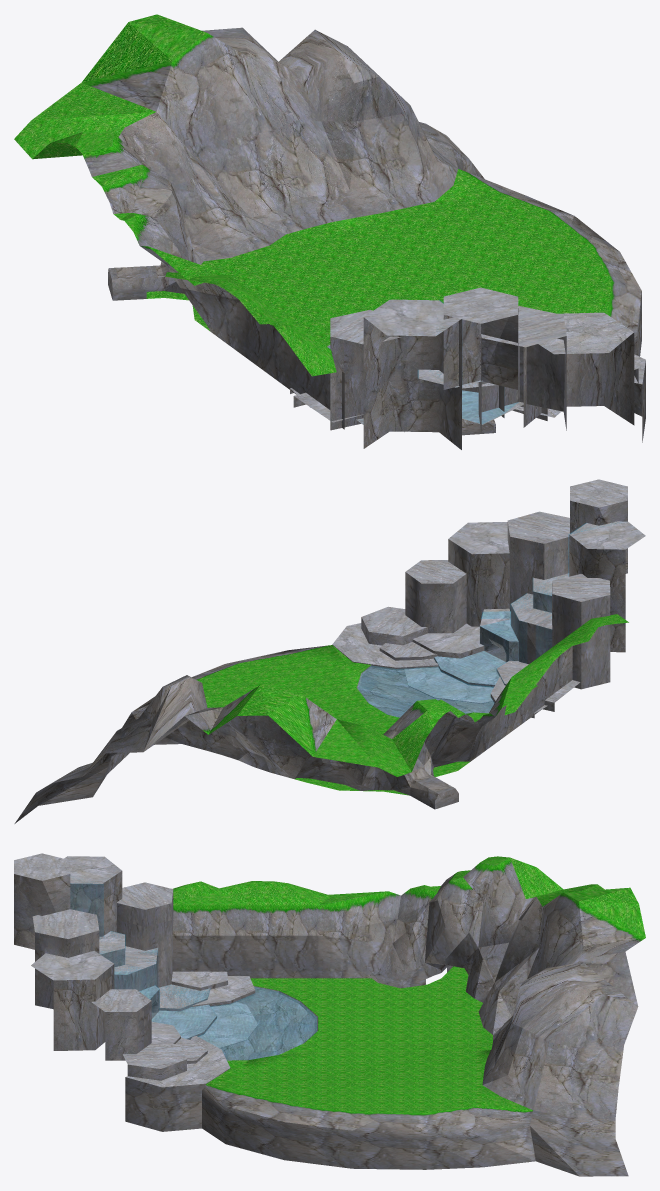
File: chao-garden-3.glb
The picture shows the model from 3 angles, top to bottom: view 1: azimuth 30°, elevation 25°; view 2: azimuth 150°, elevation 25°; view 3: azimuth 270°, elevation 25°; orthographic projection. The views are drawn at different scales.
Parts seen in each view (by area): view 1: chao_island; view 2: chao_island; view 3: chao_island.
Boxes of the visible parts, box(x1,y1,x2,y2) form: chao_island: box(14, 14, 645, 449); chao_island: box(14, 479, 645, 823); chao_island: box(14, 853, 645, 1176).
Size of the model in its own units: 90.49 by 42.47 by 139.
Materials: 8 (8 with a texture image).
